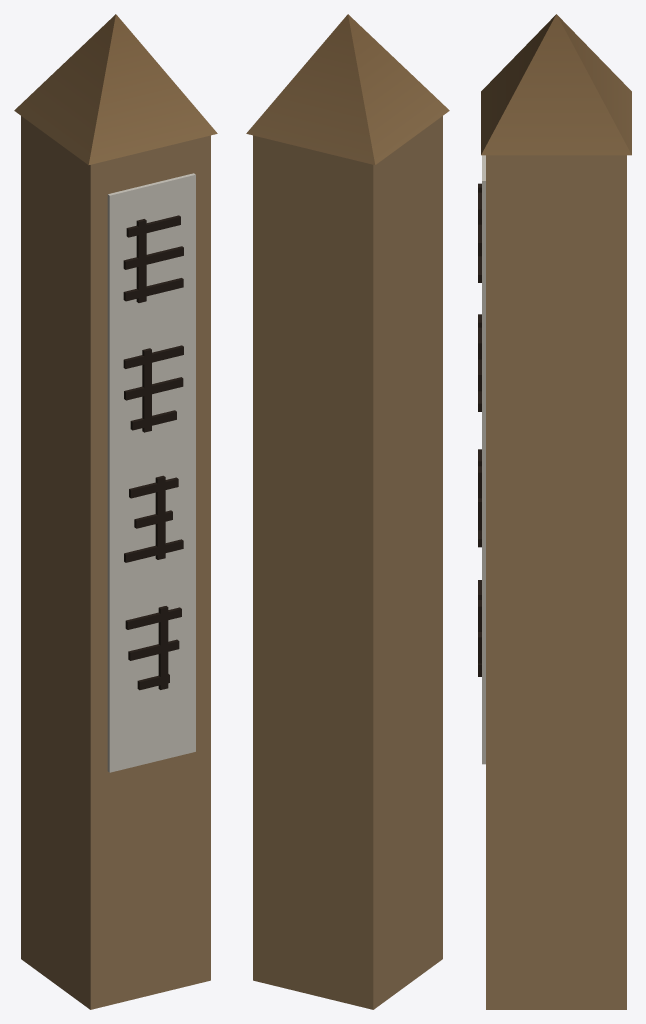
Rendered from Mtn_SummitPost.fbx.
3 renders of one model, left to right at view 1: azimuth 30°, elevation 25°; view 2: azimuth 150°, elevation 25°; view 3: azimuth 270°, elevation 25°, orthographic.
Visible parts, largest first — view 1: Mtn_SummitPost; view 2: Mtn_SummitPost; view 3: Mtn_SummitPost.
Part boxes in pixels (bbox=[...]): Mtn_SummitPost: bbox=[14, 14, 217, 1009]; Mtn_SummitPost: bbox=[246, 14, 449, 1009]; Mtn_SummitPost: bbox=[478, 14, 631, 1009].
Size of the model in its own units: 1.5 by 10.6 by 1.53.
